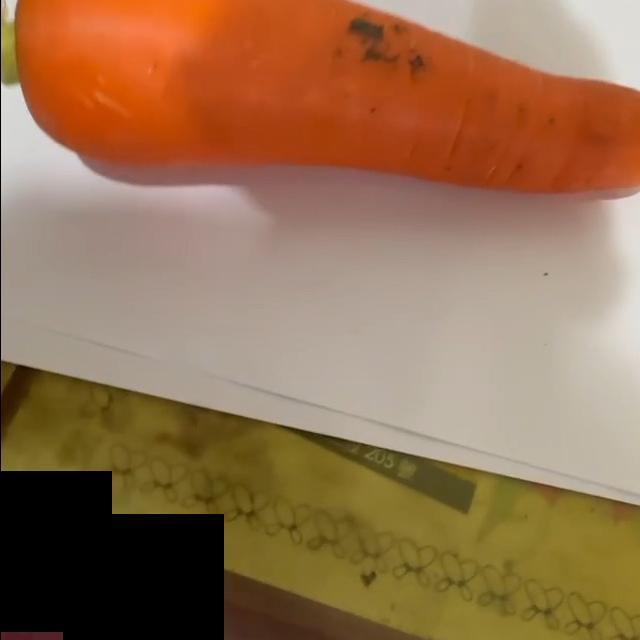carrot: (1, 1, 640, 199)
